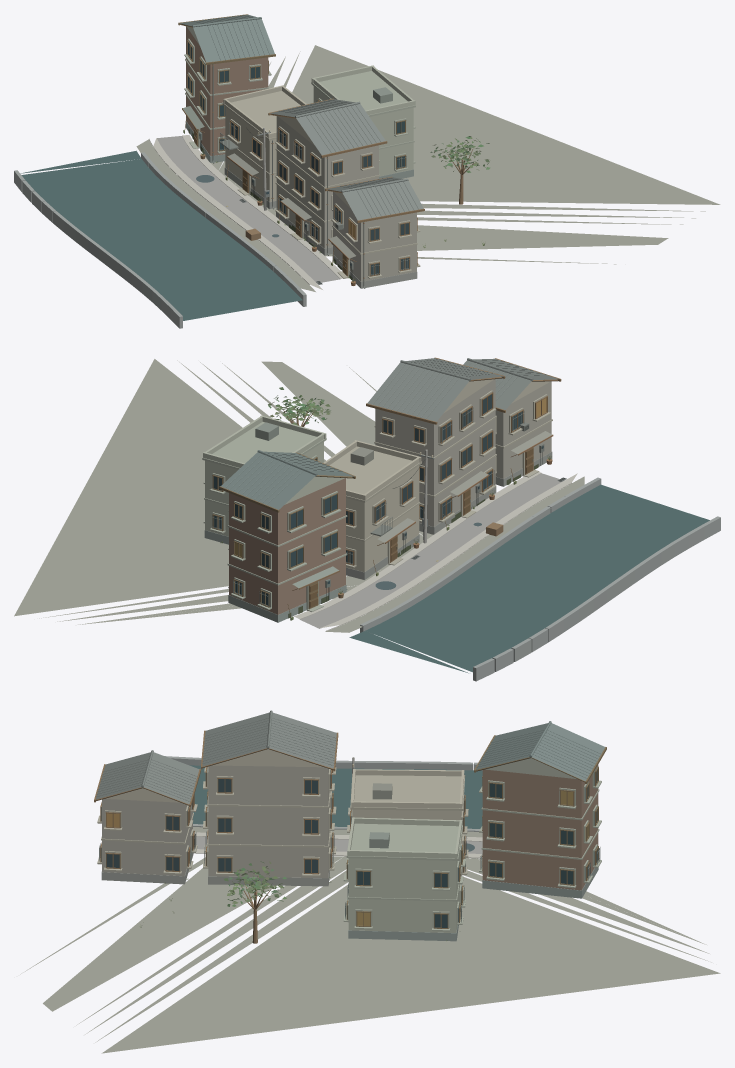
File: street_8_3.glb
3 renders of one model, top to bottom at view 1: azimuth 30°, elevation 25°; view 2: azimuth 150°, elevation 25°; view 3: azimuth 270°, elevation 25°, orthographic. The views are drawn at different scales.
Parts seen in each view (by area): view 1: ground.007, water.006, roof_tile.032, concrete.039, trim.047, plaster.047, graybrick.046, wood.047, road.048, brick.020, paving.038, glass.047 (+3 smaller); view 2: ground.007, water.006, roof_tile.032, trim.047, concrete.039, brick.020, graybrick.046, plaster.047, wood.047, road.048, glass.047, paving.038 (+3 smaller); view 3: ground.007, concrete.039, trim.047, plaster.047, roof_tile.032, brick.020, wood.047, graybrick.046, glass.047, water.006, leaf.049, roof_metal.047 (+1 smaller).
Part boxes in pixels (x1,y1,x2,y2): ground.007: (136,45,720,291); water.006: (20,150,302,320); roof_tile.032: (180,14,423,220); concrete.039: (263,116,416,281); trim.047: (184,38,420,278); plaster.047: (186,26,415,209); graybrick.046: (14,121,417,328); wood.047: (178,14,473,276); road.048: (157,136,339,282); brick.020: (186,26,268,155); paving.038: (149,135,342,289); glass.047: (188,42,408,275); ground.007: (14,359,584,632); water.006: (349,484,709,673); roof_tile.032: (221,358,558,509); trim.047: (202,390,552,611); concrete.039: (375,379,551,543); brick.020: (229,478,345,614); graybrick.046: (204,452,720,681); plaster.047: (203,379,550,572); wood.047: (212,357,561,616); road.048: (300,473,563,628); glass.047: (213,394,543,606); paving.038: (293,472,577,631); ground.007: (20,827,720,1053); concrete.039: (102,757,354,878); trim.047: (97,766,601,931); plaster.047: (105,749,576,932); roof_tile.032: (95,710,605,804); brick.020: (482,765,598,890); wood.047: (94,730,606,943); graybrick.046: (101,756,598,941); glass.047: (101,768,597,927); water.006: (189,765,482,828); leaf.049: (224,861,286,906); roof_metal.047: (369,783,392,848).
Bounding box in the file's own units: 50.95 × 12.37 × 51.18.
